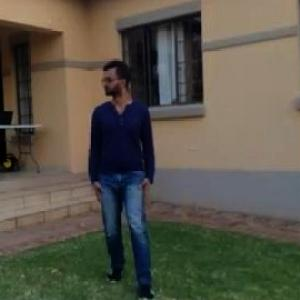follow: (84, 47, 164, 299)
